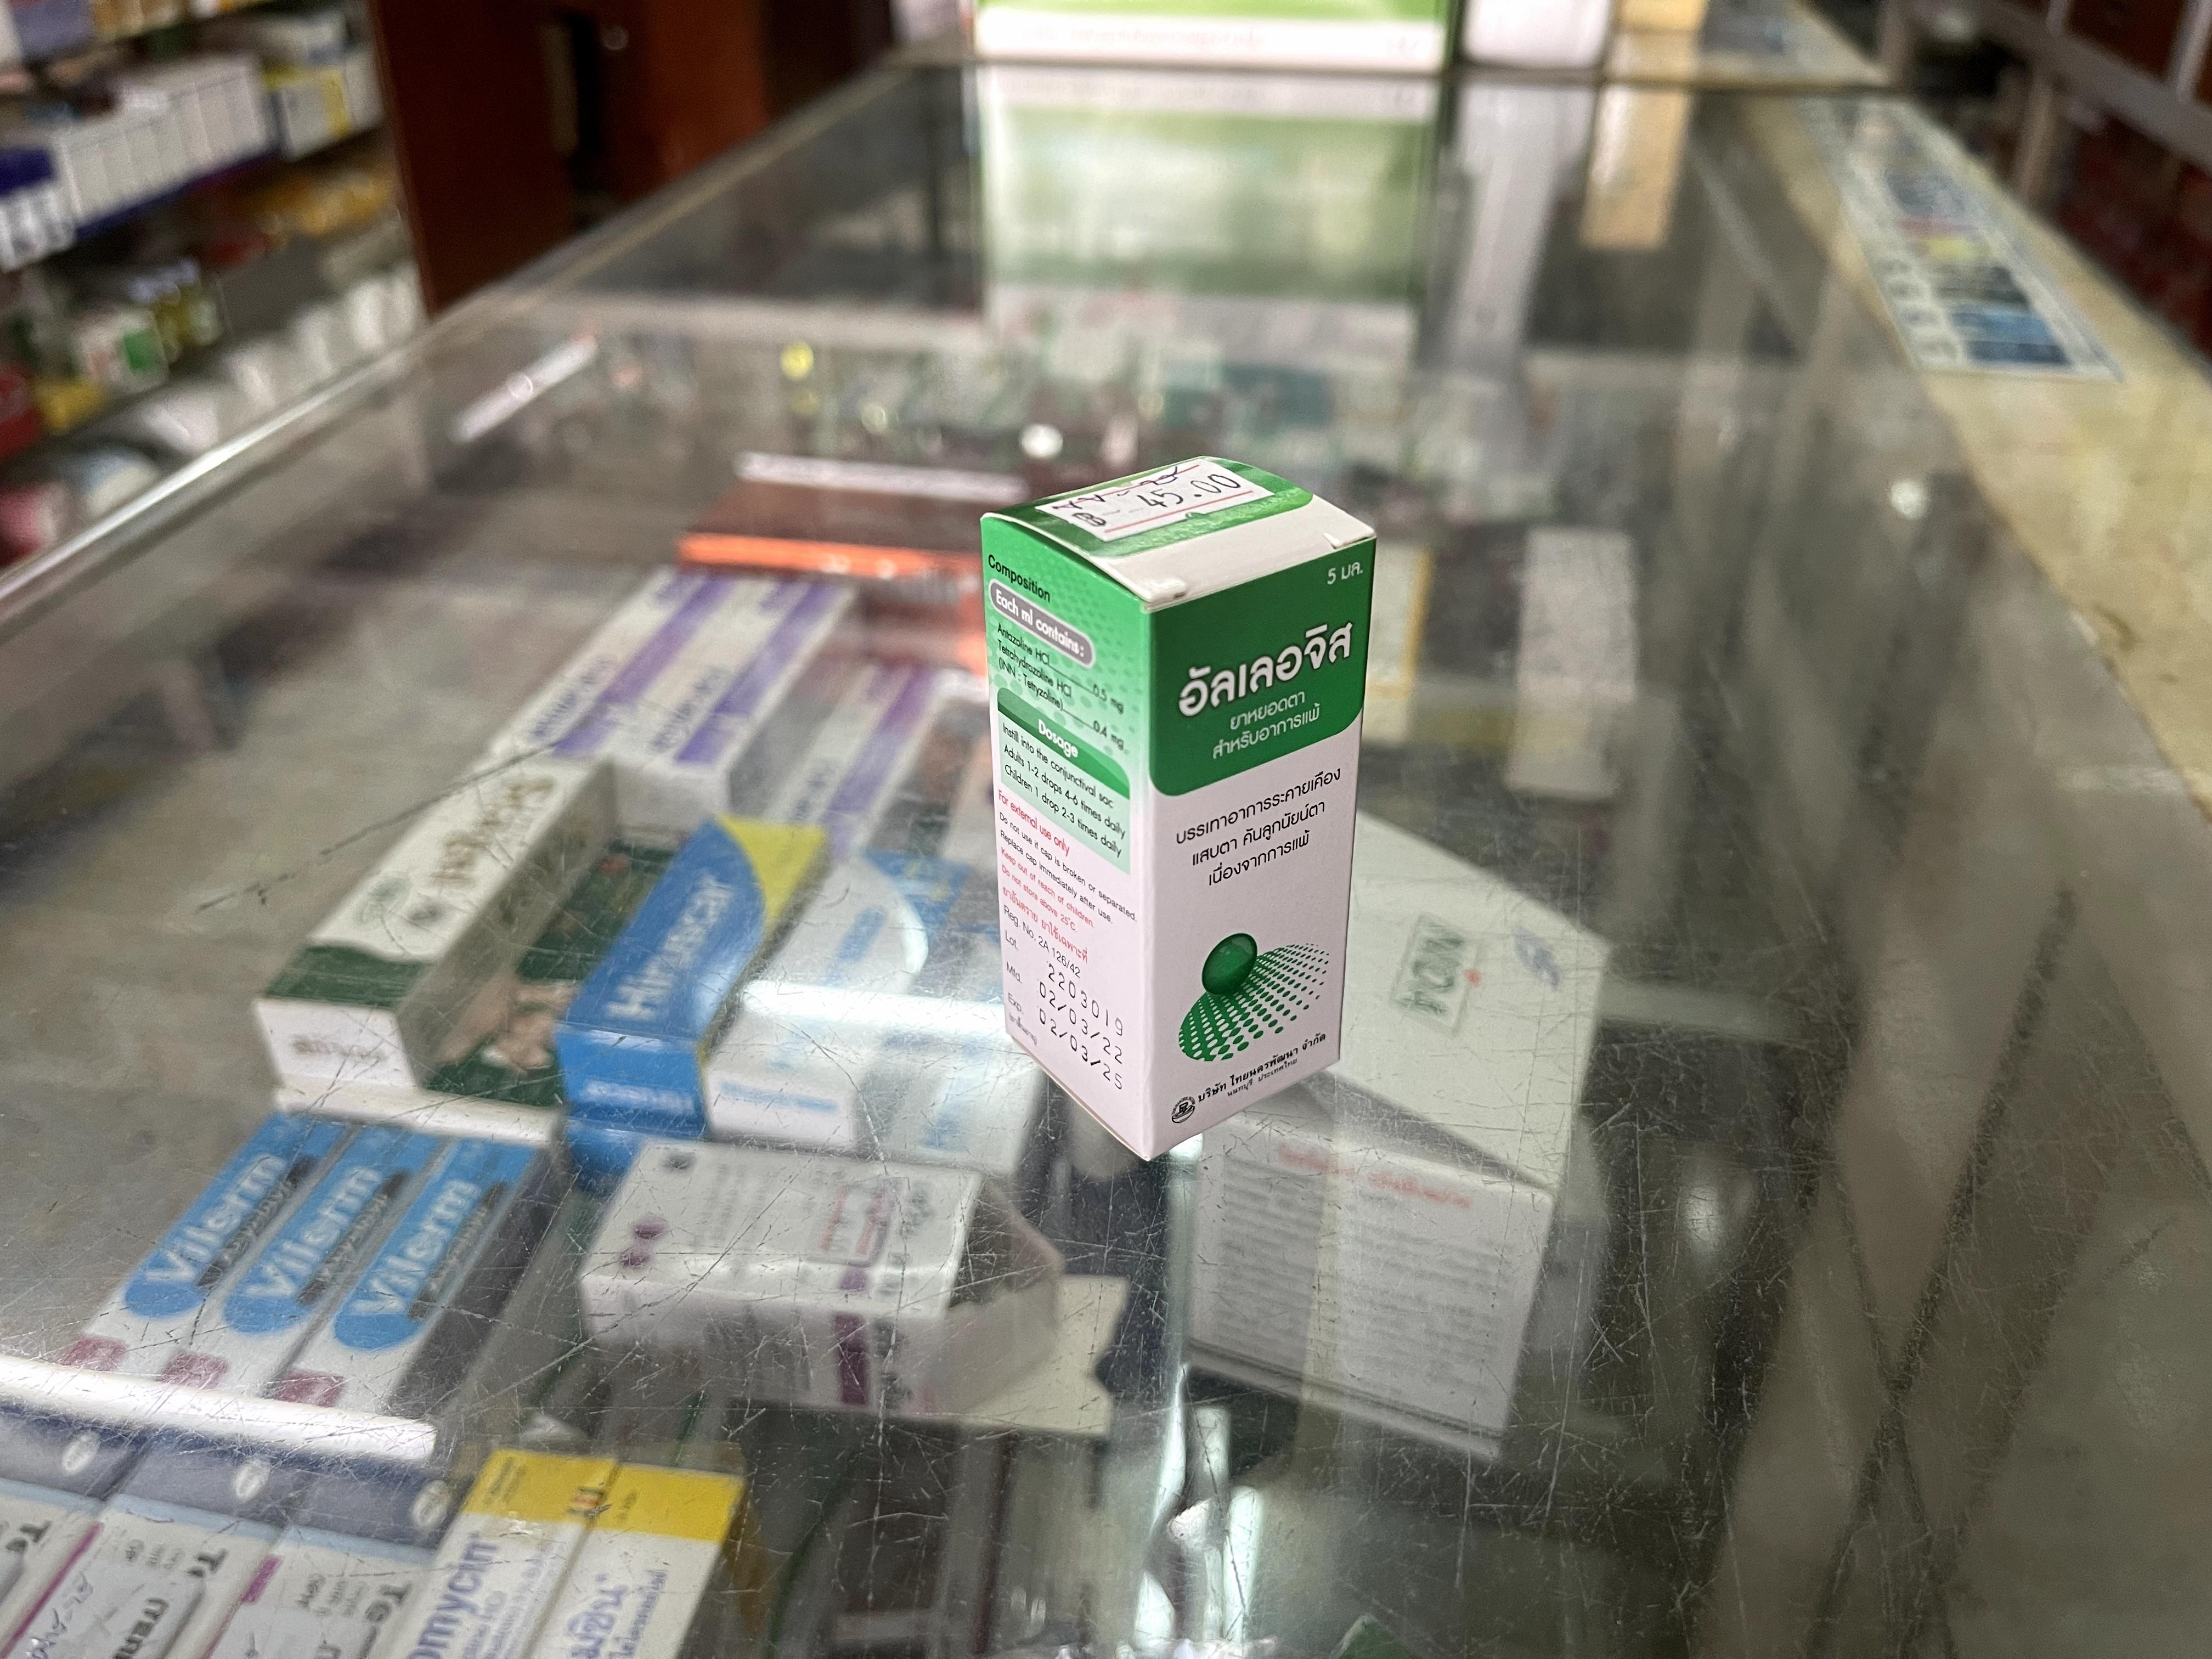Allergis: (982, 453, 1379, 1162)
